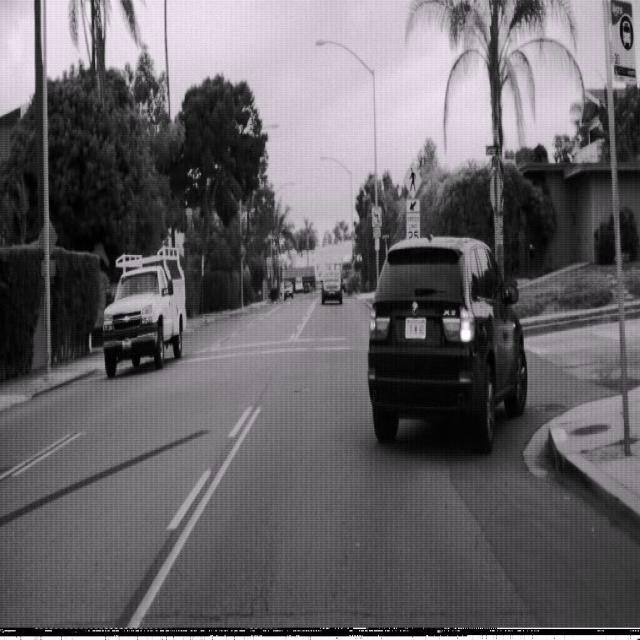pedestrianCrossing: (402, 160, 422, 200)
speedLimit25: (405, 212, 420, 245)
